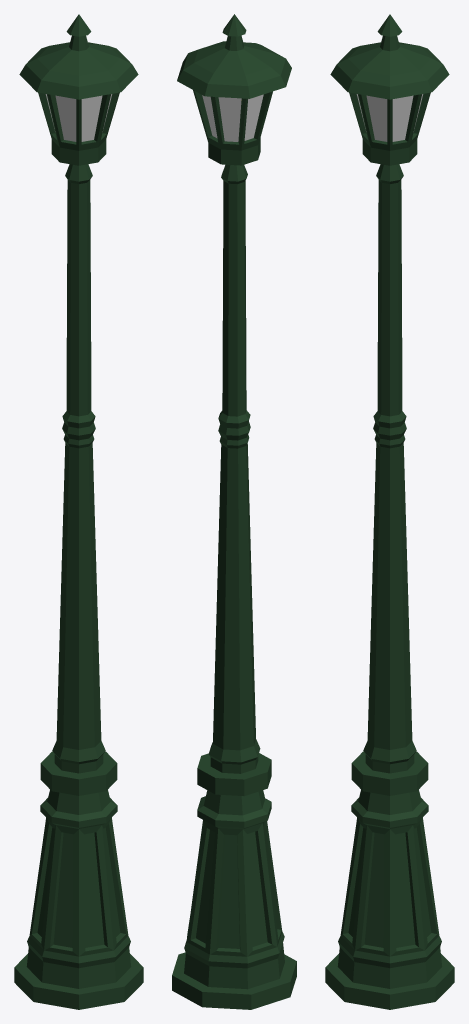
The model's file is Streetlight_Single.glb.
3 renders of one model, left to right at view 1: azimuth 90°, elevation 25°; view 2: azimuth 150°, elevation 25°; view 3: azimuth 270°, elevation 25°, orthographic.
Visible parts, largest first — view 1: Streetlight_Single; view 2: Streetlight_Single; view 3: Streetlight_Single.
Boxes of the visible parts, bbox=[...] form: Streetlight_Single: bbox=[14, 14, 143, 1009]; Streetlight_Single: bbox=[172, 14, 296, 1009]; Streetlight_Single: bbox=[325, 14, 454, 1009].
Size of the model in its own units: 0.1317 by 1.09 by 0.1317.
